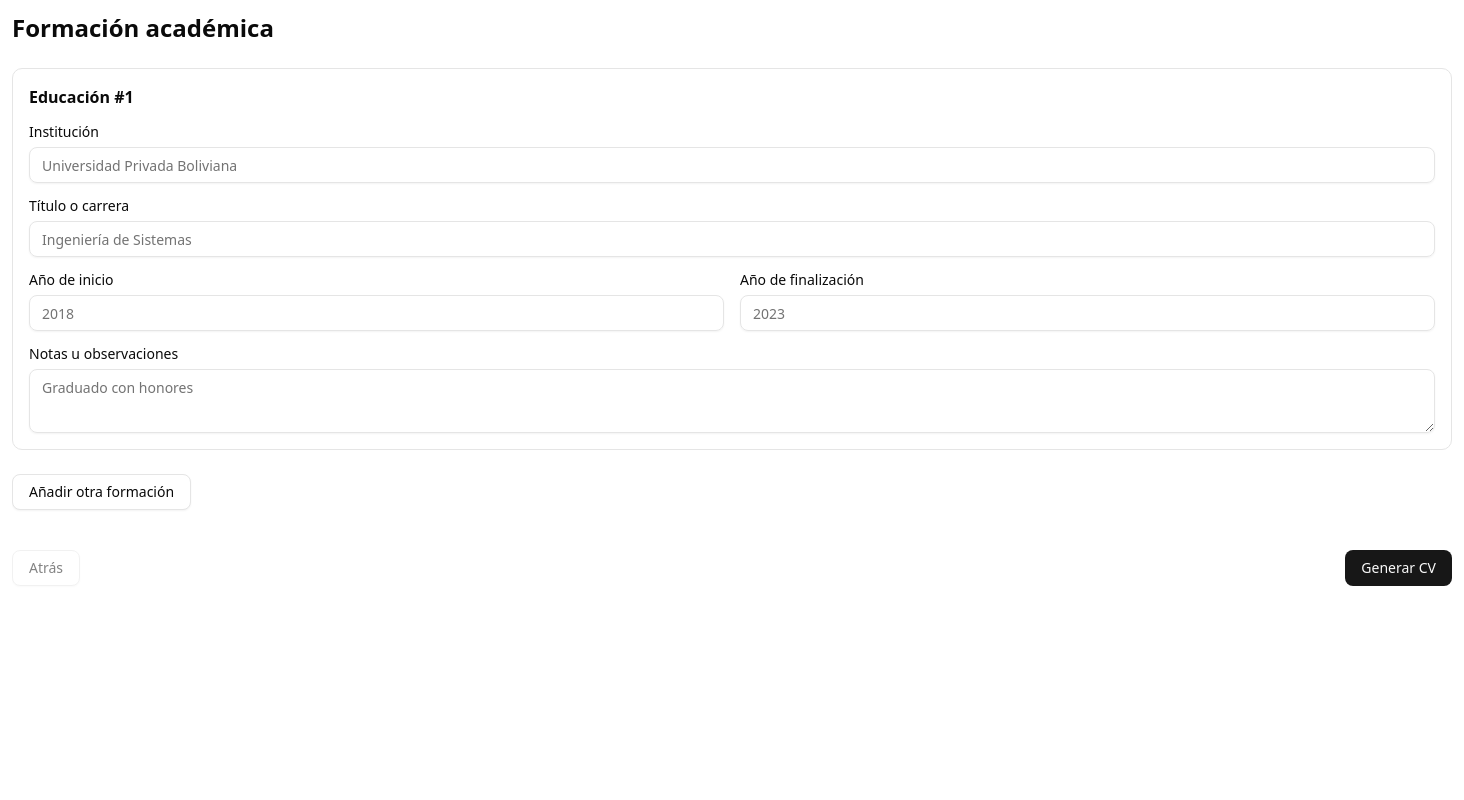
Scenario: EducationSection › añade y elimina entradas de educación
Click the button "Añadir otra formación".
click(102, 492)  # box [12, 474, 191, 510]
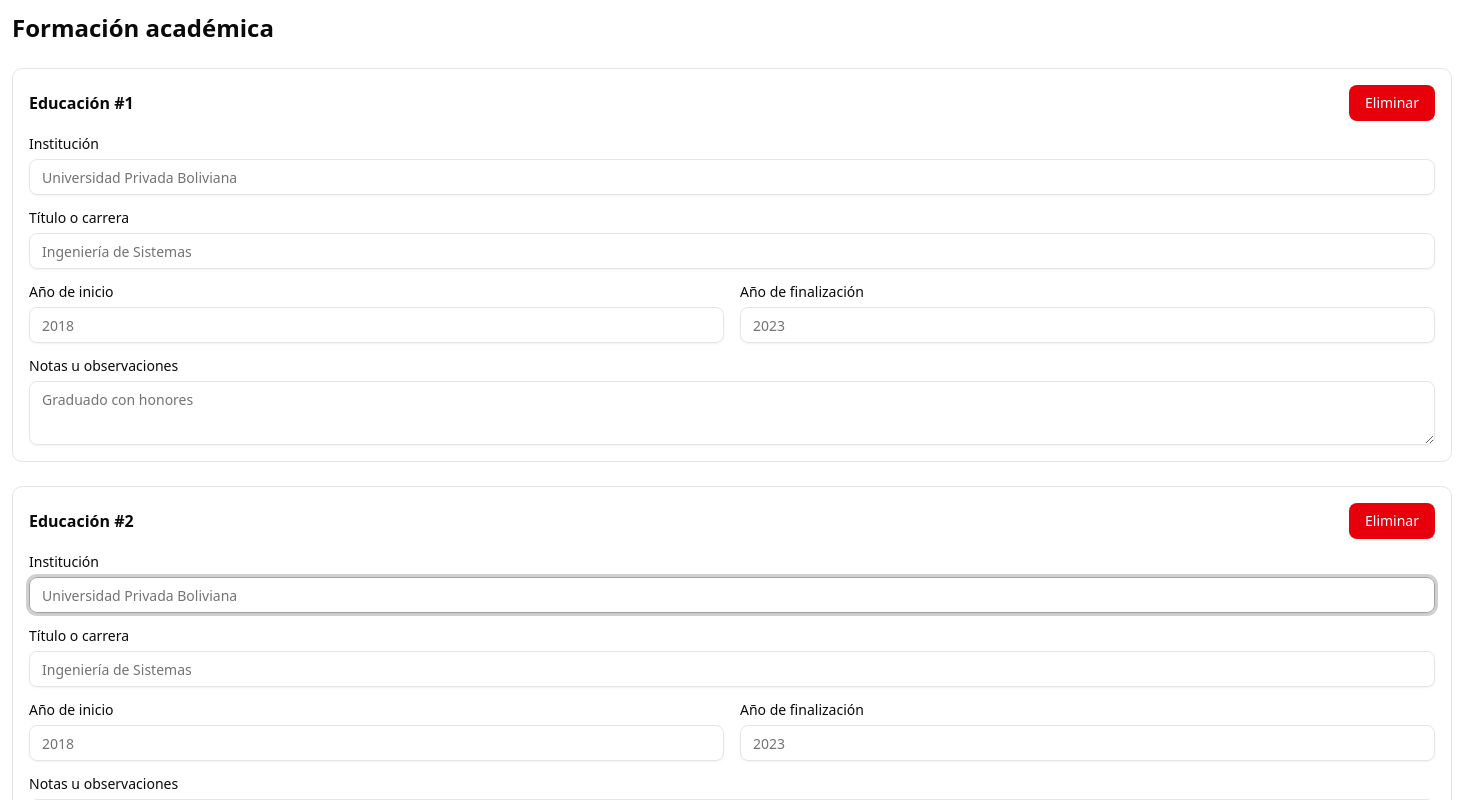
Expected: the number of headings "Educación #1" is 2, [29, 91, 134, 115]; [29, 509, 134, 533]
Click the 1st button "Eliminar".
click(1392, 103)  # box [1349, 85, 1435, 121]
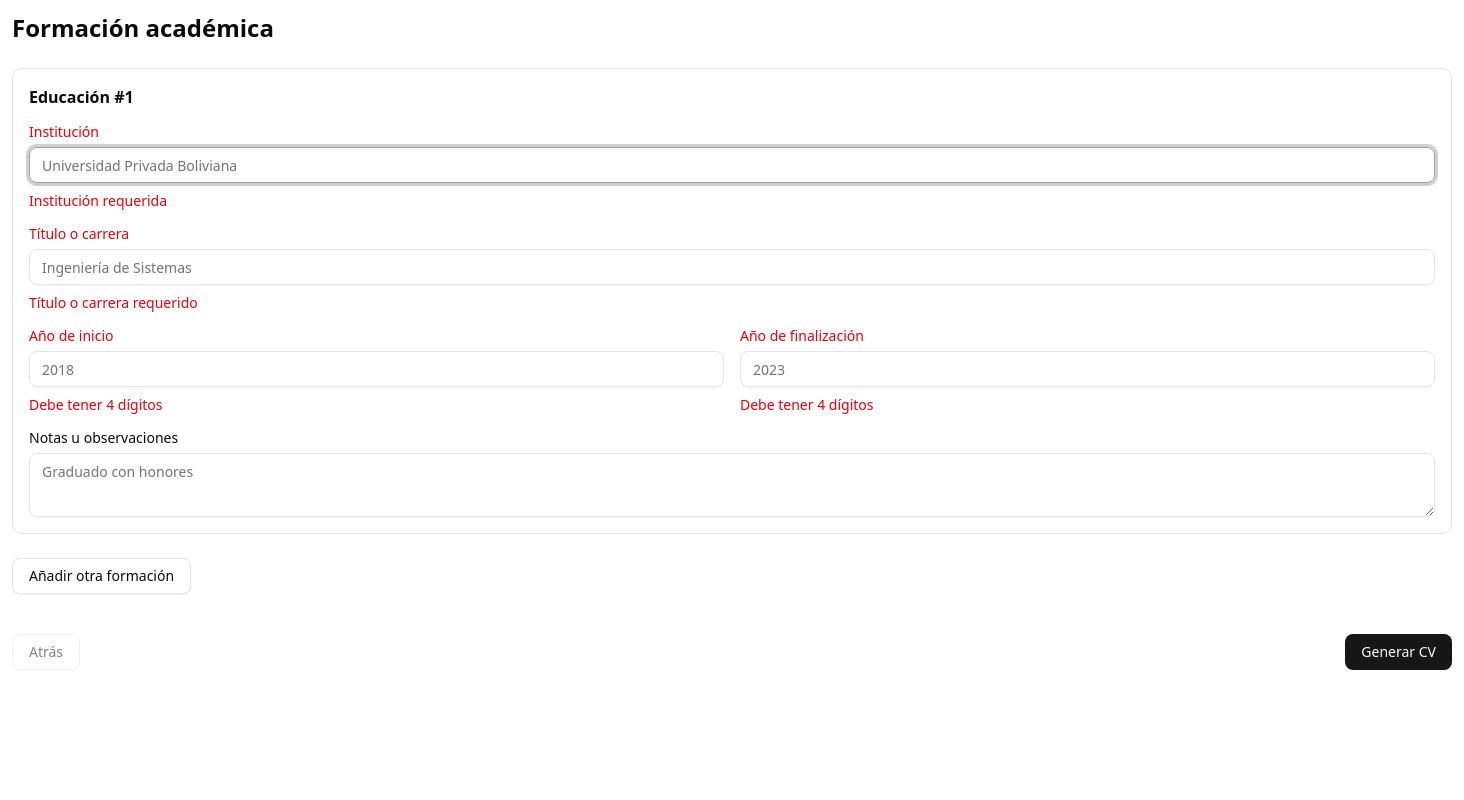
Expected: the number of headings "Educación #1" is 1, [29, 85, 134, 109]
